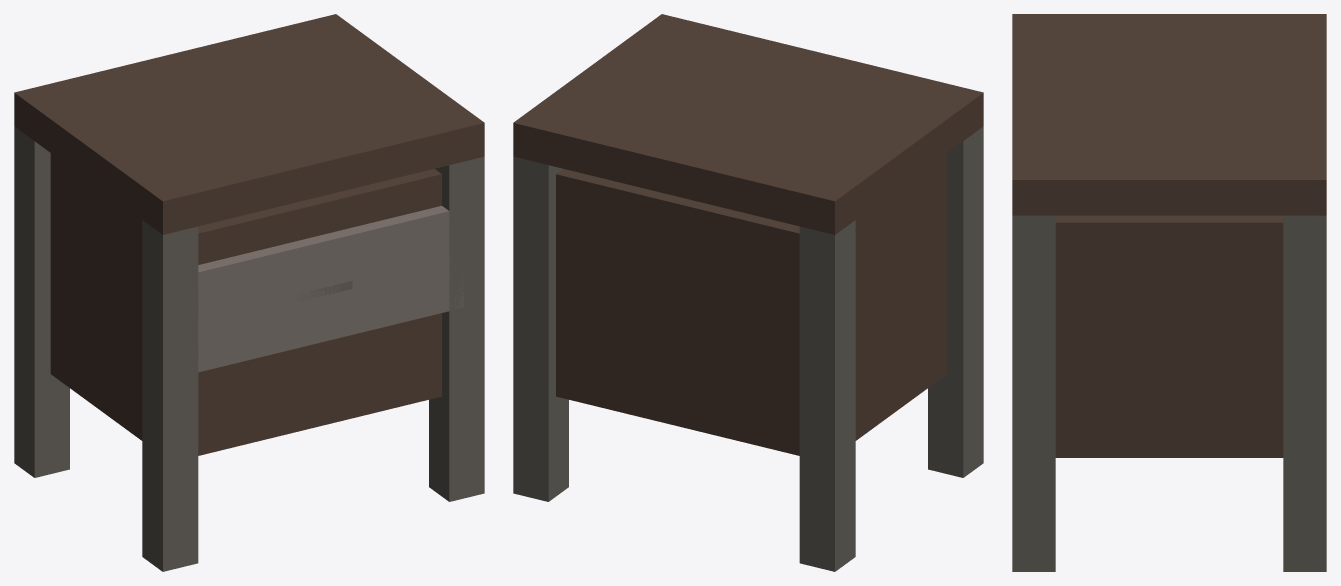
Rendered from BL-NIGHT.glb.
3 renders of one model, left to right at view 1: azimuth 30°, elevation 25°; view 2: azimuth 150°, elevation 25°; view 3: azimuth 270°, elevation 25°, orthographic. The views are drawn at different scales.
Parts seen in each view (by area): view 1: Top, Body, Leg (×3), Drawer; view 2: Body, Top, Leg (×3); view 3: Top, Body, Leg (×2).
Part boxes in pixels (<box>): Top: <box>14,14,484,234</box>; Body: <box>50,153,441,455</box>; Leg (×3): <box>14,126,484,571</box>; Drawer: <box>184,206,463,372</box>; Body: <box>556,153,947,455</box>; Top: <box>513,14,983,234</box>; Leg (×3): <box>513,126,983,571</box>; Top: <box>1012,14,1326,215</box>; Body: <box>1055,215,1283,457</box>; Leg (×2): <box>1012,215,1326,571</box>.
Bounding box in the file's own units: 0.5 × 0.55 × 0.4.
